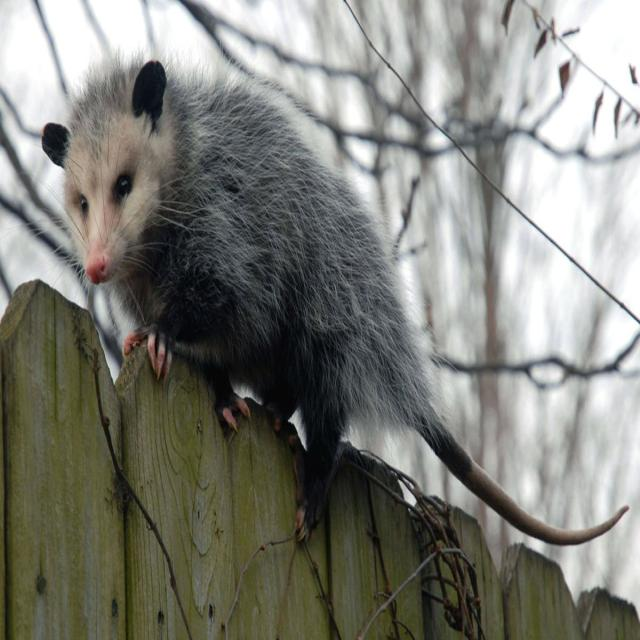Possum: (40, 48, 633, 547)
